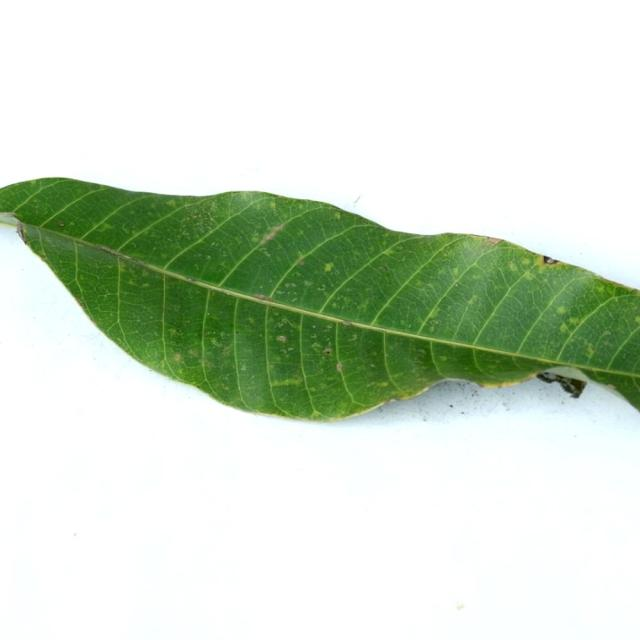Mango: (0, 178, 639, 421)
Powdery_Mildew: (259, 223, 285, 244), (320, 257, 334, 279), (612, 287, 631, 299), (277, 318, 295, 329), (339, 296, 355, 307), (221, 345, 233, 357), (209, 337, 222, 348), (427, 310, 440, 320), (586, 344, 596, 356), (595, 284, 607, 294), (569, 317, 581, 327), (252, 294, 269, 301), (522, 271, 535, 280), (100, 222, 113, 231), (383, 249, 397, 257), (467, 295, 478, 305), (506, 261, 517, 271), (555, 305, 567, 314), (259, 248, 271, 257), (117, 262, 126, 273), (187, 348, 198, 357), (521, 256, 532, 265), (317, 284, 327, 293), (357, 301, 366, 311), (168, 328, 179, 336), (311, 410, 322, 418), (560, 323, 569, 332), (173, 353, 182, 362), (452, 267, 460, 277), (277, 335, 287, 343), (166, 199, 175, 207), (298, 256, 306, 265), (251, 232, 260, 240), (284, 282, 296, 288), (603, 330, 613, 337), (348, 334, 358, 341), (333, 211, 341, 219), (246, 317, 255, 324), (127, 279, 136, 286), (312, 342, 321, 349), (418, 349, 427, 356), (323, 347, 332, 354), (140, 283, 150, 289), (438, 355, 448, 361), (379, 381, 389, 387), (269, 201, 276, 209), (304, 280, 312, 287), (275, 355, 282, 362), (296, 230, 303, 237), (222, 384, 229, 391), (298, 203, 305, 210), (336, 363, 342, 371), (310, 386, 317, 392), (58, 221, 65, 227), (241, 364, 247, 371), (331, 302, 338, 308), (30, 179, 38, 184), (636, 316, 640, 325), (429, 326, 435, 332), (288, 347, 294, 352), (311, 334, 317, 338)
